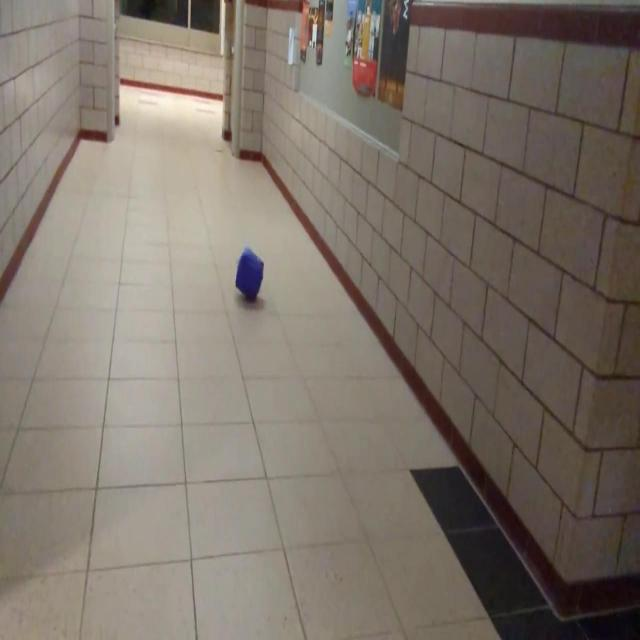frc_cube: (234, 248, 265, 301)
